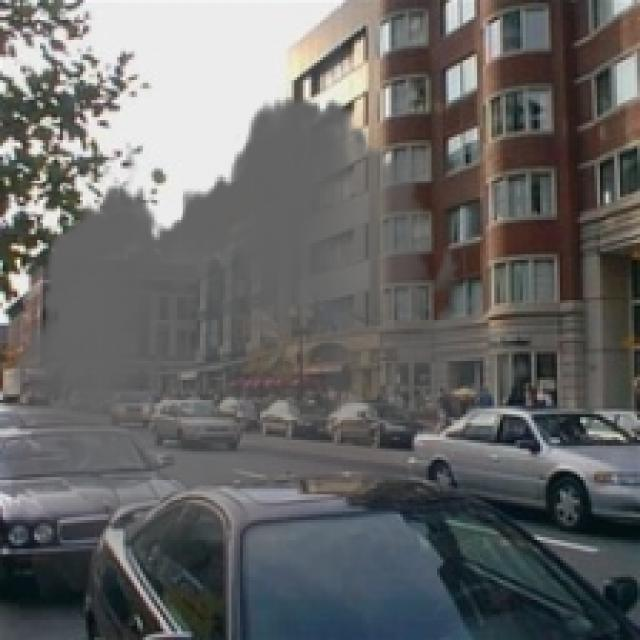Smoke: (0, 77, 532, 632)
